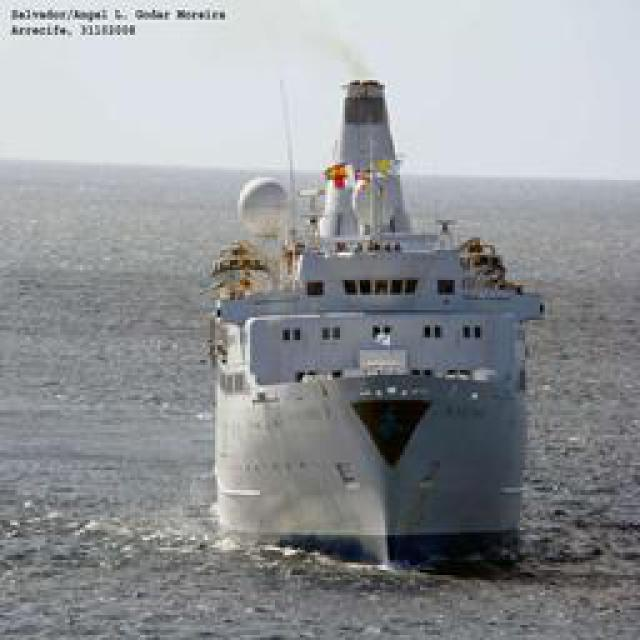Ship: (209, 146, 544, 566)
